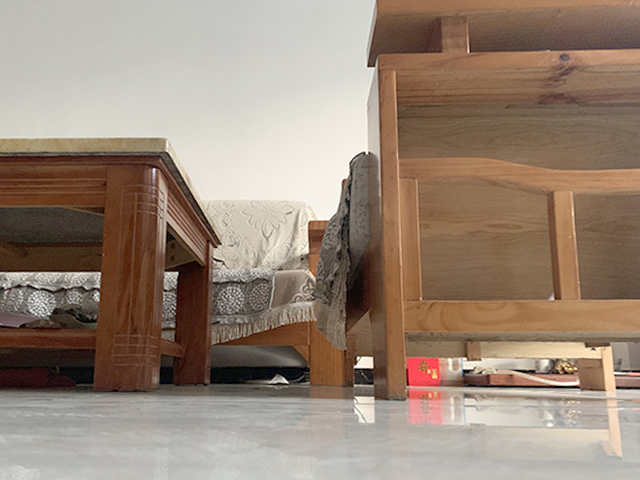sofa: (307, 1, 640, 401), (207, 198, 356, 387)
table: (1, 136, 223, 393)
